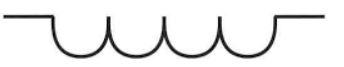inductor: (44, 3, 285, 59)
